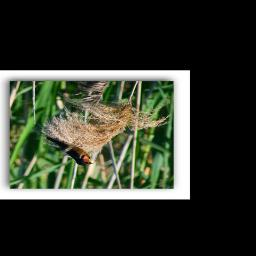Swallow: (40, 133, 96, 167)
